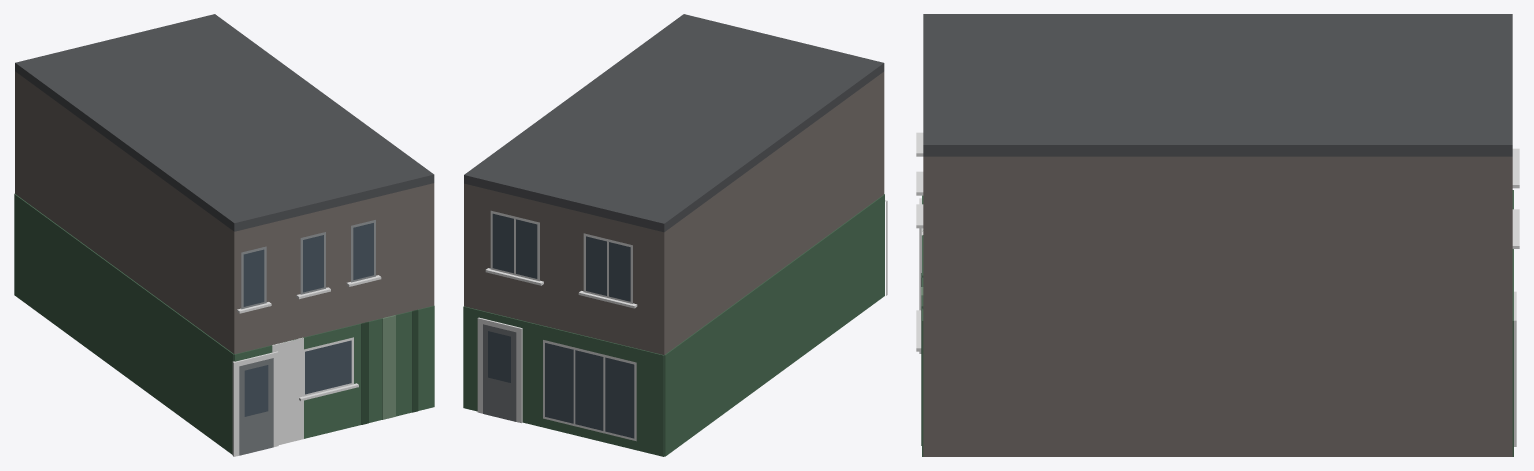
Rendered from th-kz-row__green__2__flat__long__solid.glb.
3 renders of one model, left to right at view 1: azimuth 30°, elevation 25°; view 2: azimuth 150°, elevation 25°; view 3: azimuth 270°, elevation 25°, orthographic. The views are drawn at different scales.
Visible parts, largest first — view 1: th-kz-row__green__2__flat__long__solid; view 2: th-kz-row__green__2__flat__long__solid; view 3: th-kz-row__green__2__flat__long__solid.
Boxes of the visible parts, bbox=[...] form: th-kz-row__green__2__flat__long__solid: bbox=[14, 14, 434, 456]; th-kz-row__green__2__flat__long__solid: bbox=[463, 14, 887, 456]; th-kz-row__green__2__flat__long__solid: bbox=[916, 14, 1519, 456].
Bounding box in the file's own units: 5.43 × 5.97 × 10.46.
